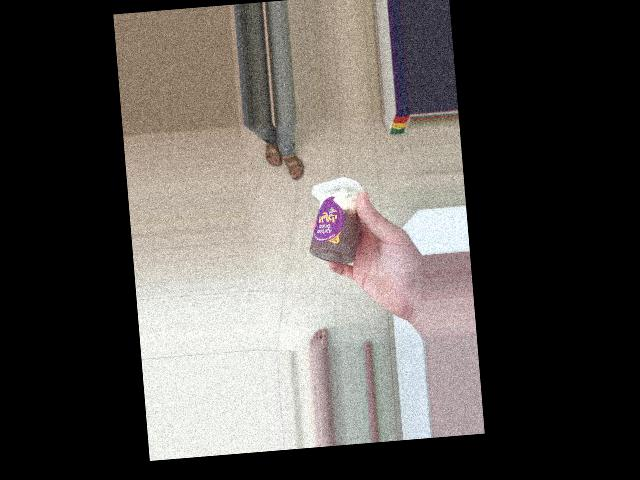milky: (312, 181, 374, 262)
